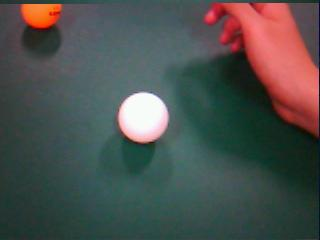oball: (21, 4, 62, 29)
